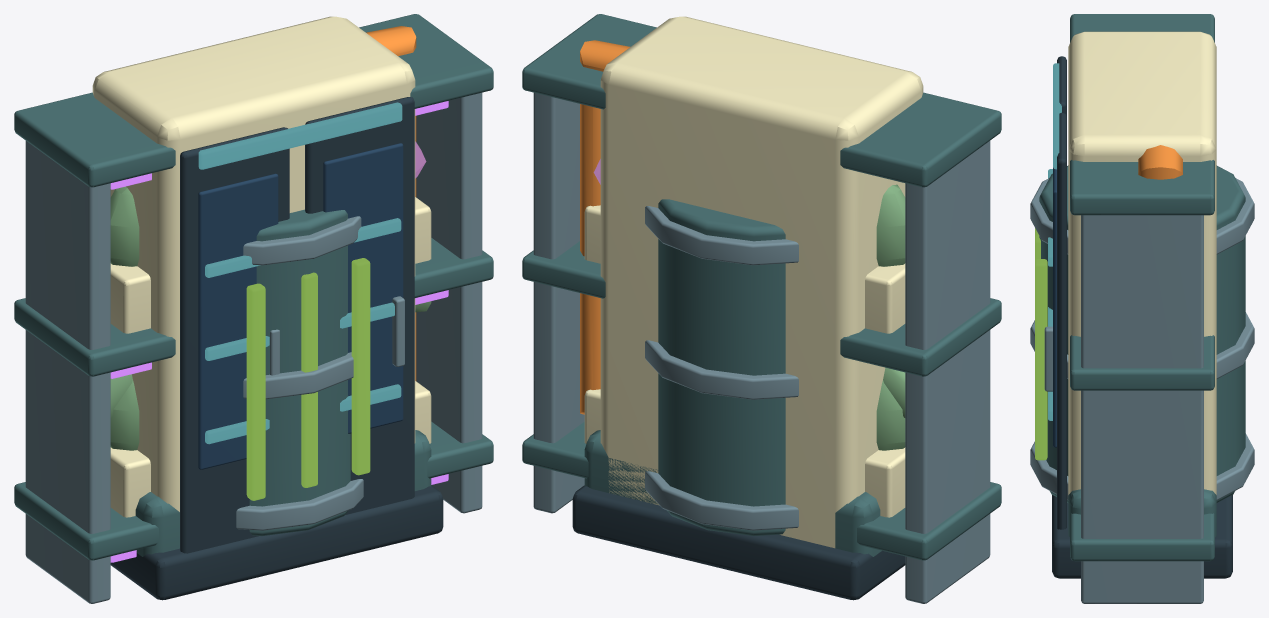
Rendered from sector_props-CKVEUzcv.glb.
The picture shows the model from 3 angles, left to right: view 1: azimuth 30°, elevation 25°; view 2: azimuth 150°, elevation 25°; view 3: azimuth 270°, elevation 25°; orthographic projection. The views are drawn at different scales.
Visible parts, largest first — view 1: cryo_freezer, grow_rack, reactor_pump, spore_planter; view 2: cryo_freezer, grow_rack, reactor_pump, spore_planter; view 3: grow_rack, cryo_freezer, reactor_pump, spore_planter.
Part boxes in pixels (x1,y1,x2,y2): cryo_freezer: [92, 16, 415, 553]; grow_rack: [14, 14, 493, 603]; reactor_pump: [110, 26, 443, 600]; spore_planter: [110, 141, 431, 556]; cryo_freezer: [600, 16, 923, 548]; grow_rack: [522, 14, 1001, 603]; reactor_pump: [572, 40, 905, 600]; spore_planter: [584, 159, 905, 556]; grow_rack: [1070, 14, 1214, 603]; cryo_freezer: [1044, 31, 1216, 529]; reactor_pump: [1030, 145, 1254, 578]; spore_planter: [1068, 489, 1216, 536].
Size of the model in its own units: 2.4 by 2.64 by 1.24.
